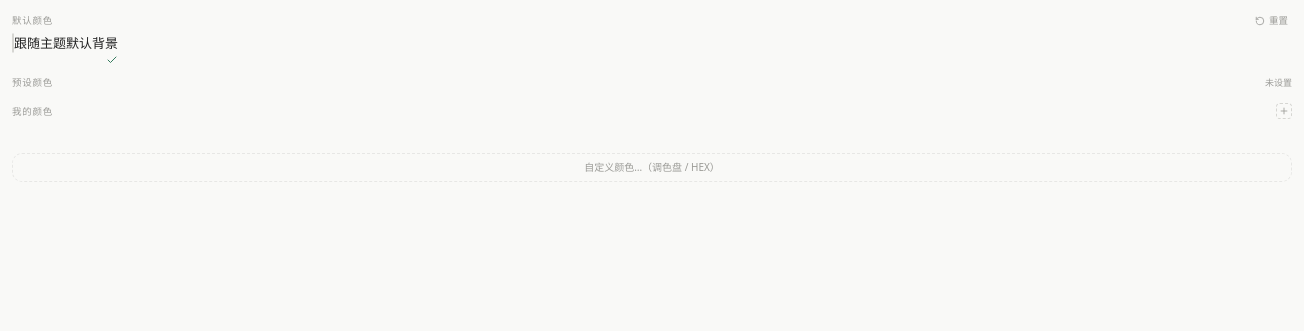
Test: ColorPaletteEditor › validates the custom hex input and supports save plus apply
The width and height of the screenshot is (1304, 331).
Later steps or results of the test are not shown.
Click the button "自定义颜色…（调色盘 / HEX）": (652,167) 12,153 -> 1292,182
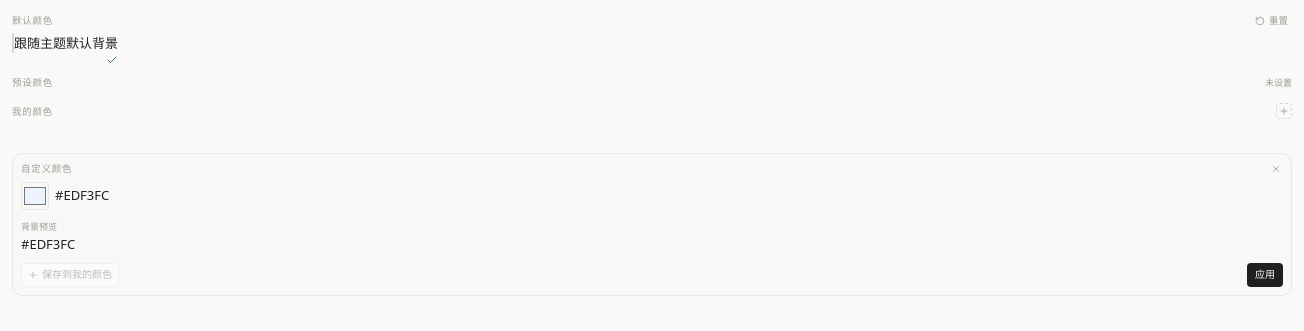
Now the field named "HEX 颜色值" holds "#EDF3FC"
In the field named "HEX 颜色值": (153,196) 55,186 -> 251,206, type "not-a-color"
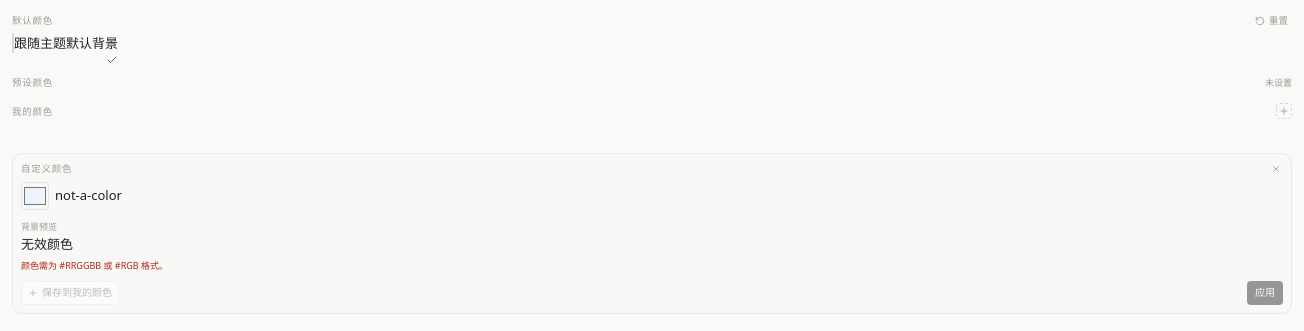
Now the text "颜色需为 #RRGGBB 或 #RGB 格式。" is shown, box 21,259 -> 168,272
Now the button "应用" is disabled, box 1247,281 -> 1283,305
